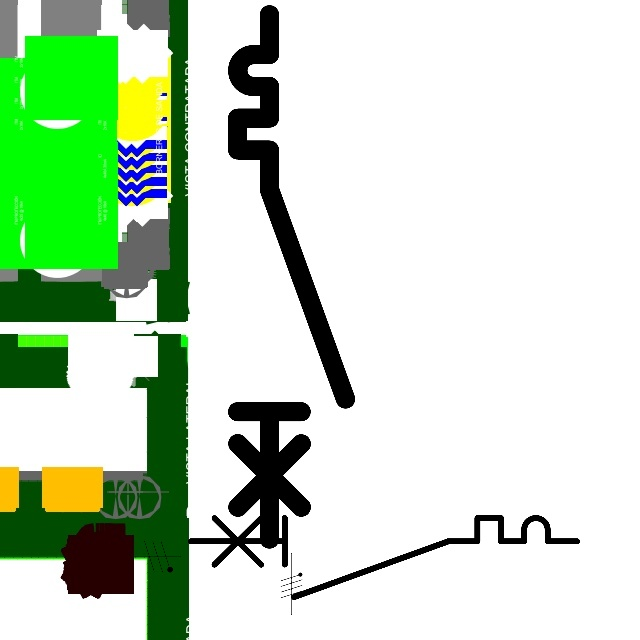interruptor_termomagnetico: (224, 1, 359, 552), (180, 508, 586, 607)
